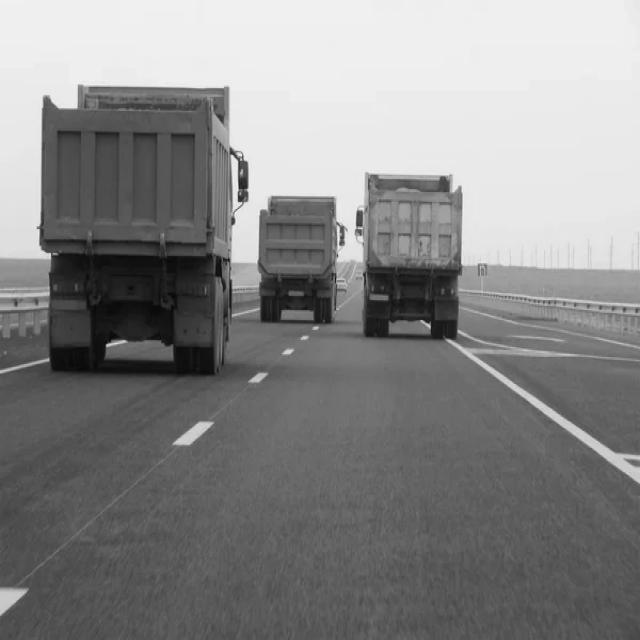Truck: (39, 85, 232, 374), (362, 174, 463, 339), (259, 196, 339, 324)
